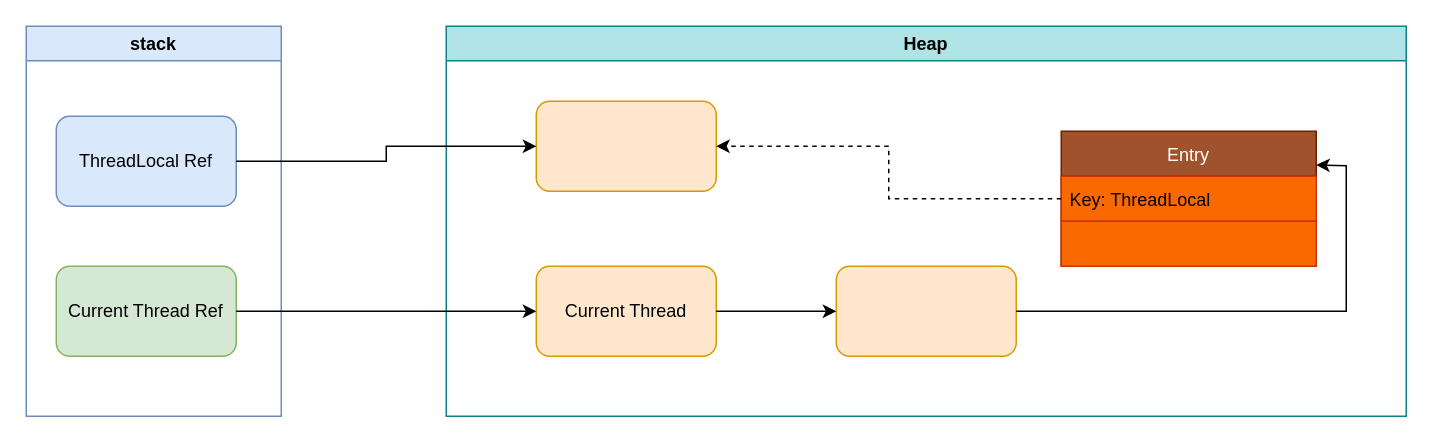
Some shapes in this 1433 by 443 pixel diagram are drawn without their labels. Here are the shapes that lost their labels. From the top down, the centre of each, then its label:
the point at 625,145: ThreadLocal
the point at 1188,243: Value:Object
the point at 925,310: ThreadLocalMap
